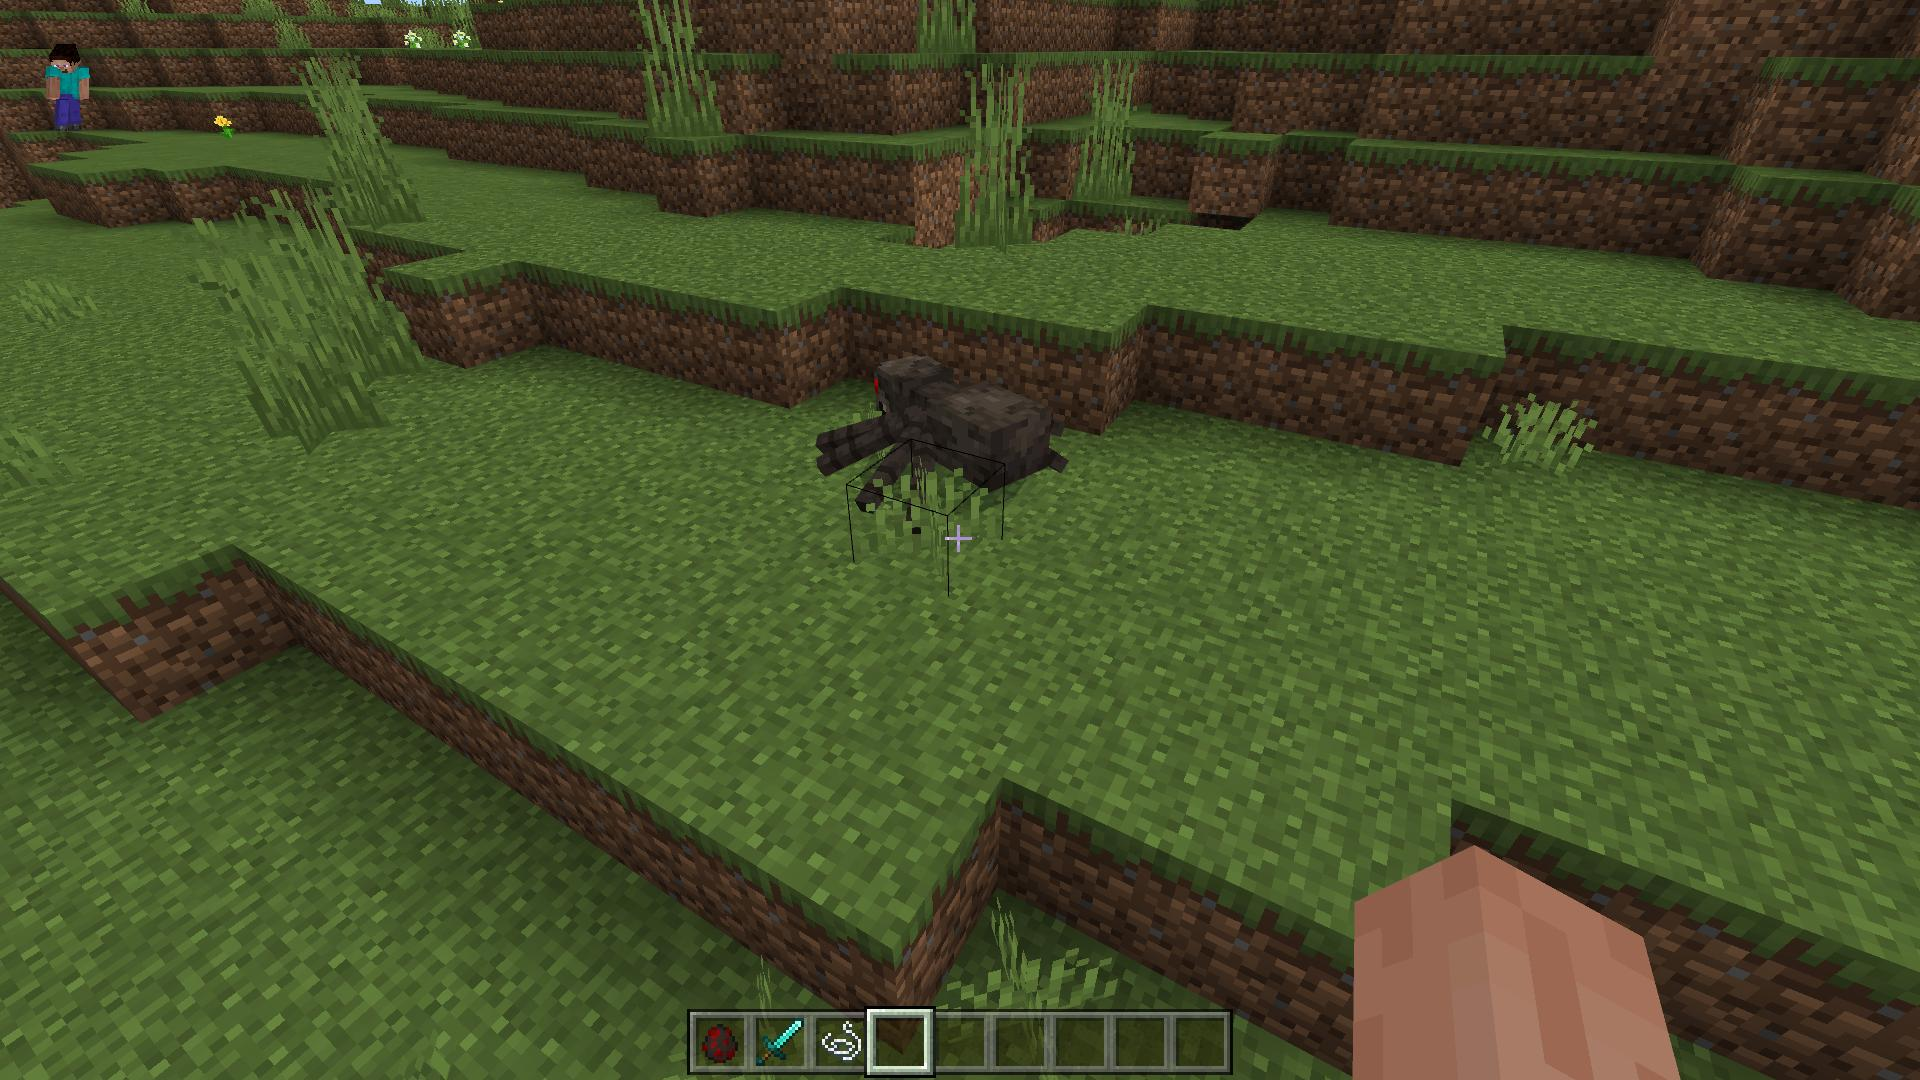spider: (820, 359, 1068, 531)
